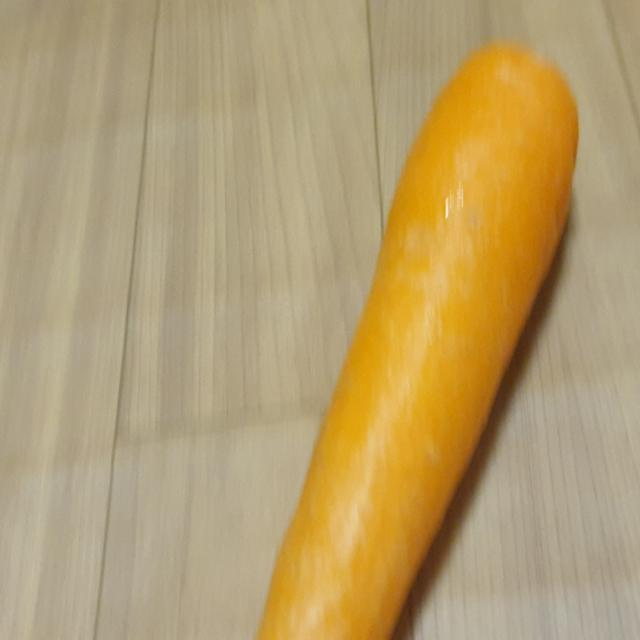Carrot: (249, 31, 590, 640)
